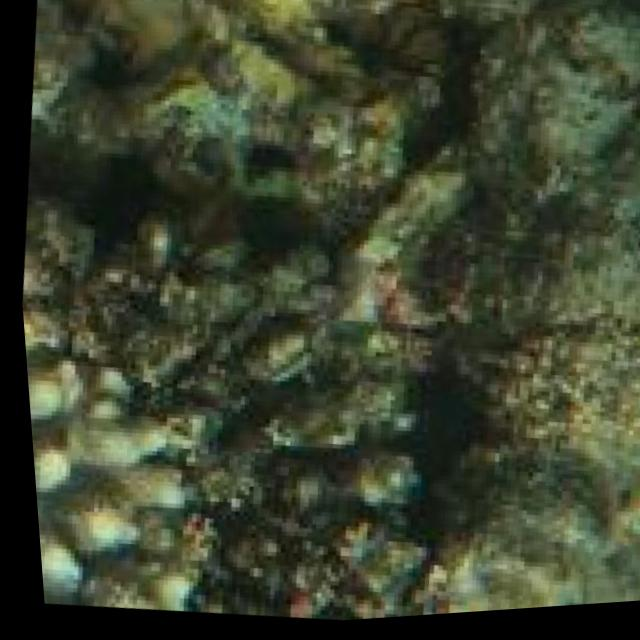Bleached Coral: (20, 339, 226, 622)
Dead Coral: (181, 325, 439, 632)
